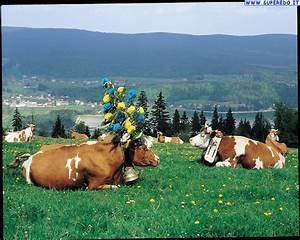cow: (18, 134, 160, 191), (188, 121, 288, 169)
